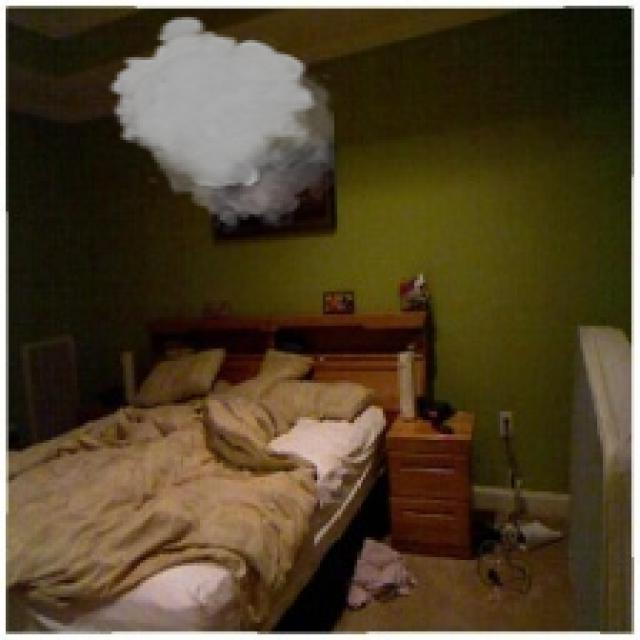smoke: (106, 14, 334, 234)
